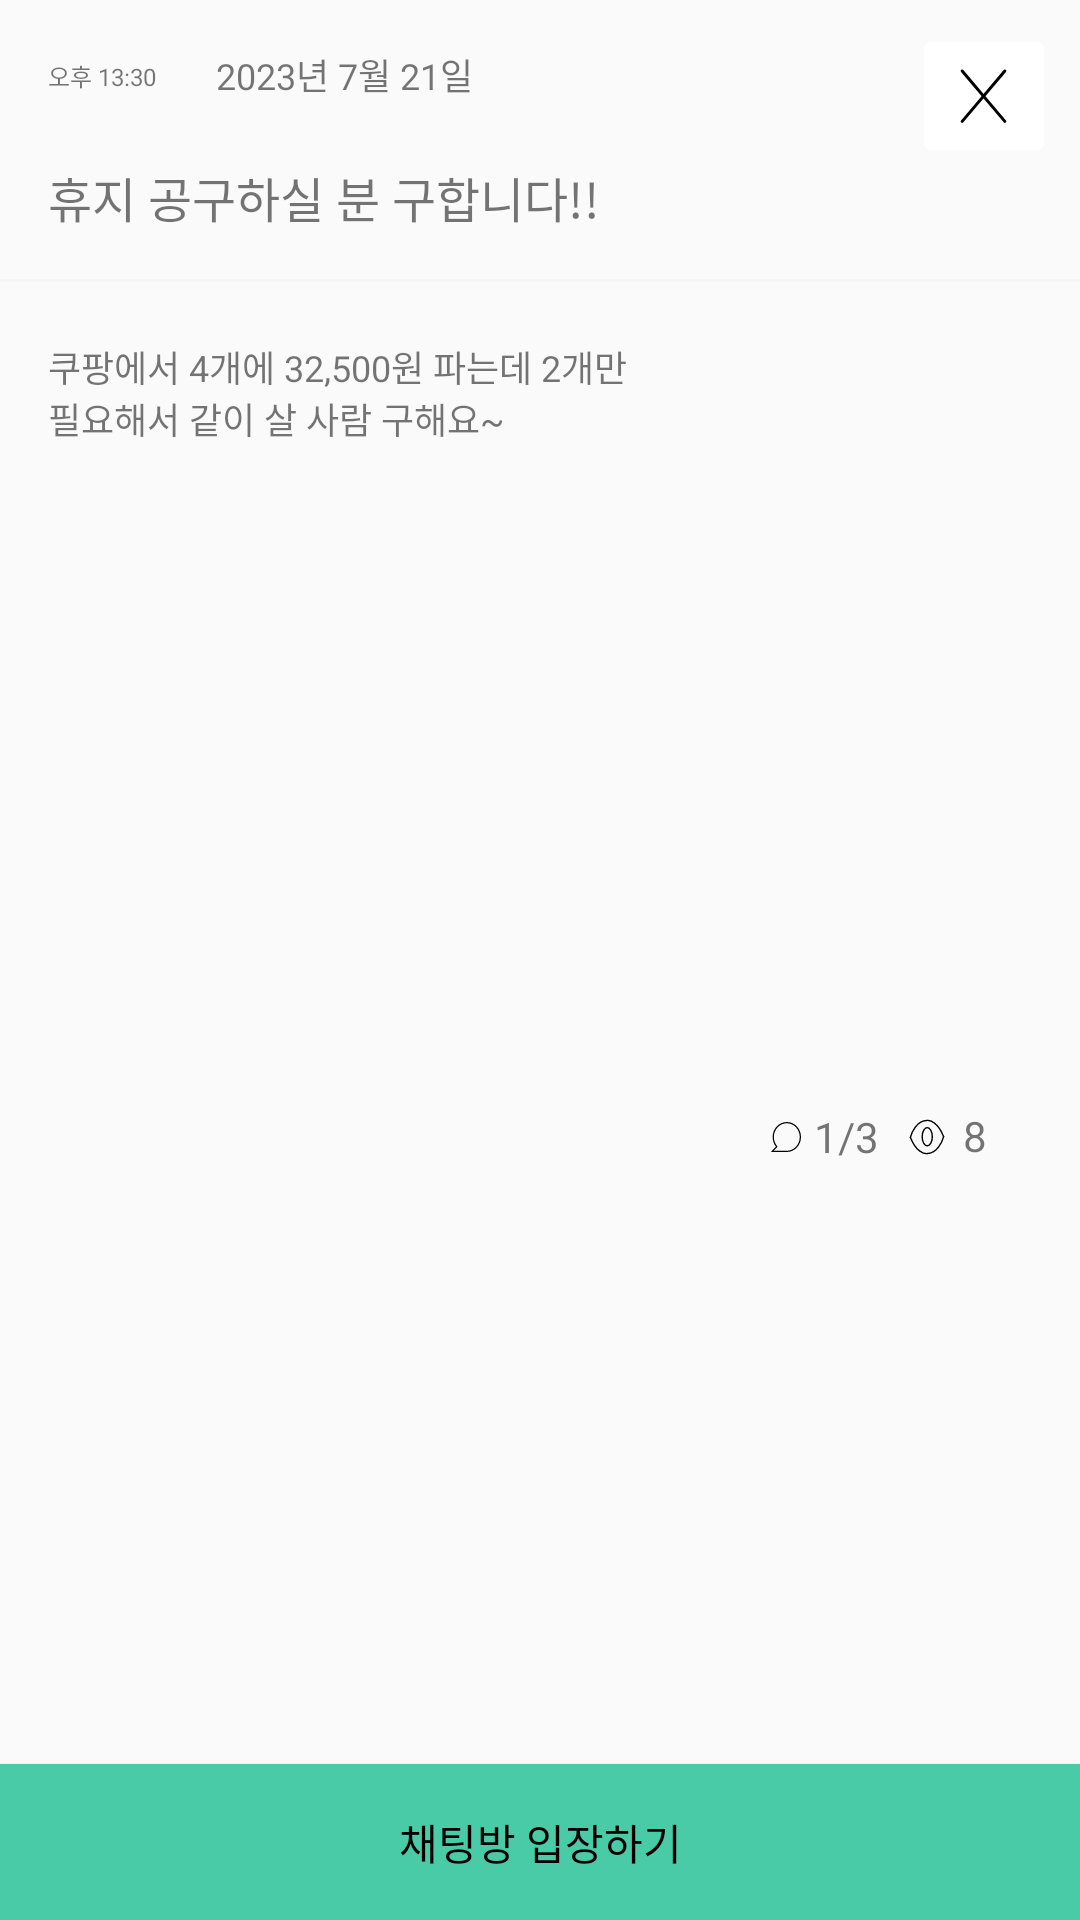

Named icons in this screenshot (1080x1920) and their centers, (x,y):
chat: (786,1137)
close: (983,96)
view: (927,1137)
